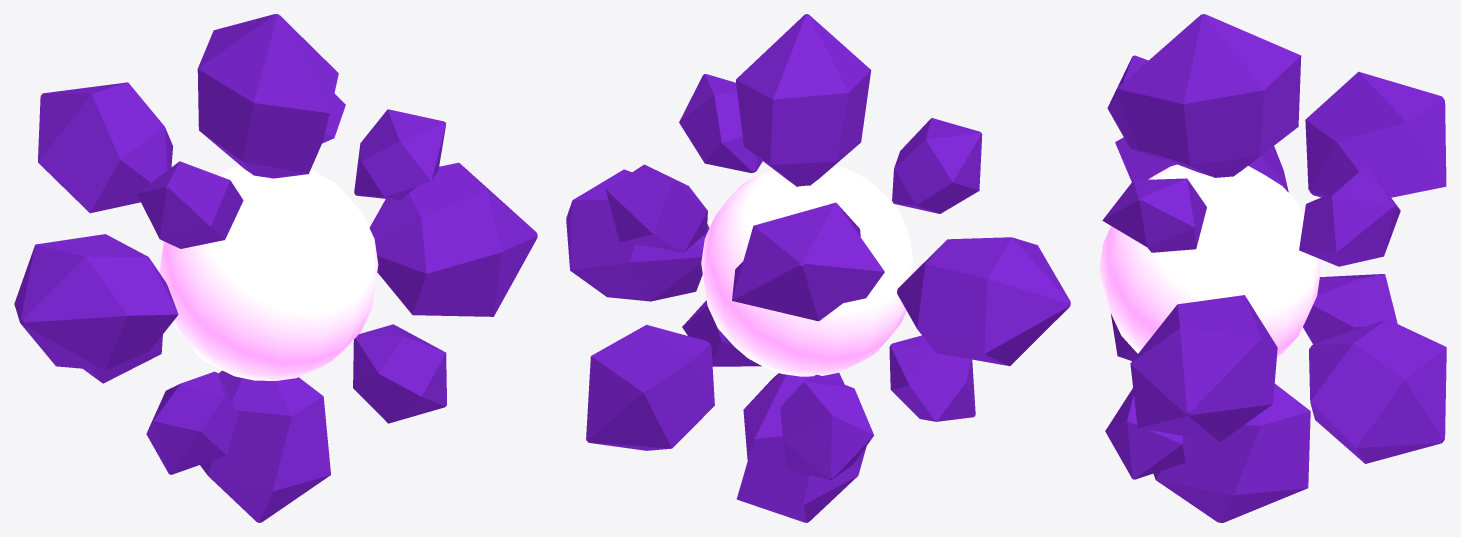
File: enemy_molecule.glb
3 views of the same model, side by side, from view 1: azimuth 30°, elevation 25°; view 2: azimuth 150°, elevation 25°; view 3: azimuth 270°, elevation 25° (orthographic). The views are drawn at different scales.
Parts seen in each view (by area): view 1: crystal_cluster, core; view 2: crystal_cluster, core; view 3: crystal_cluster, core.
Boxes of the visible parts, x1,y1,x2,y2 form: crystal_cluster: [14, 14, 537, 522]; core: [159, 164, 378, 380]; crystal_cluster: [566, 14, 1070, 522]; core: [701, 165, 914, 376]; crystal_cluster: [1102, 14, 1446, 522]; core: [1099, 164, 1320, 356].
Bounding box in the file's own units: 0.7955 × 0.7538 × 0.464.
